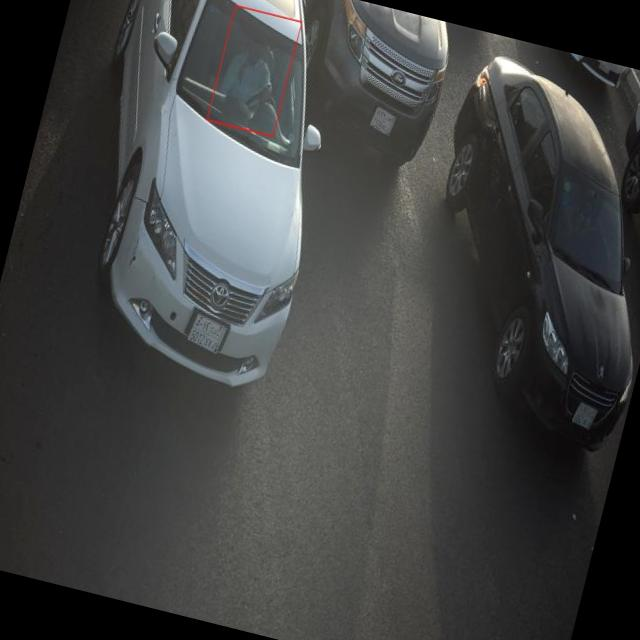person_without_seatbelt: (214, 14, 297, 123)
